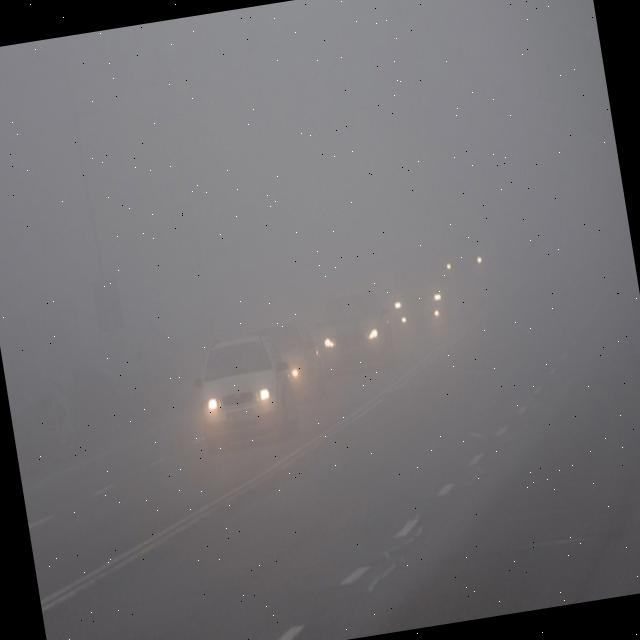car: (186, 328, 308, 453), (313, 281, 397, 379), (379, 248, 454, 344), (264, 318, 328, 409), (437, 217, 508, 295)
